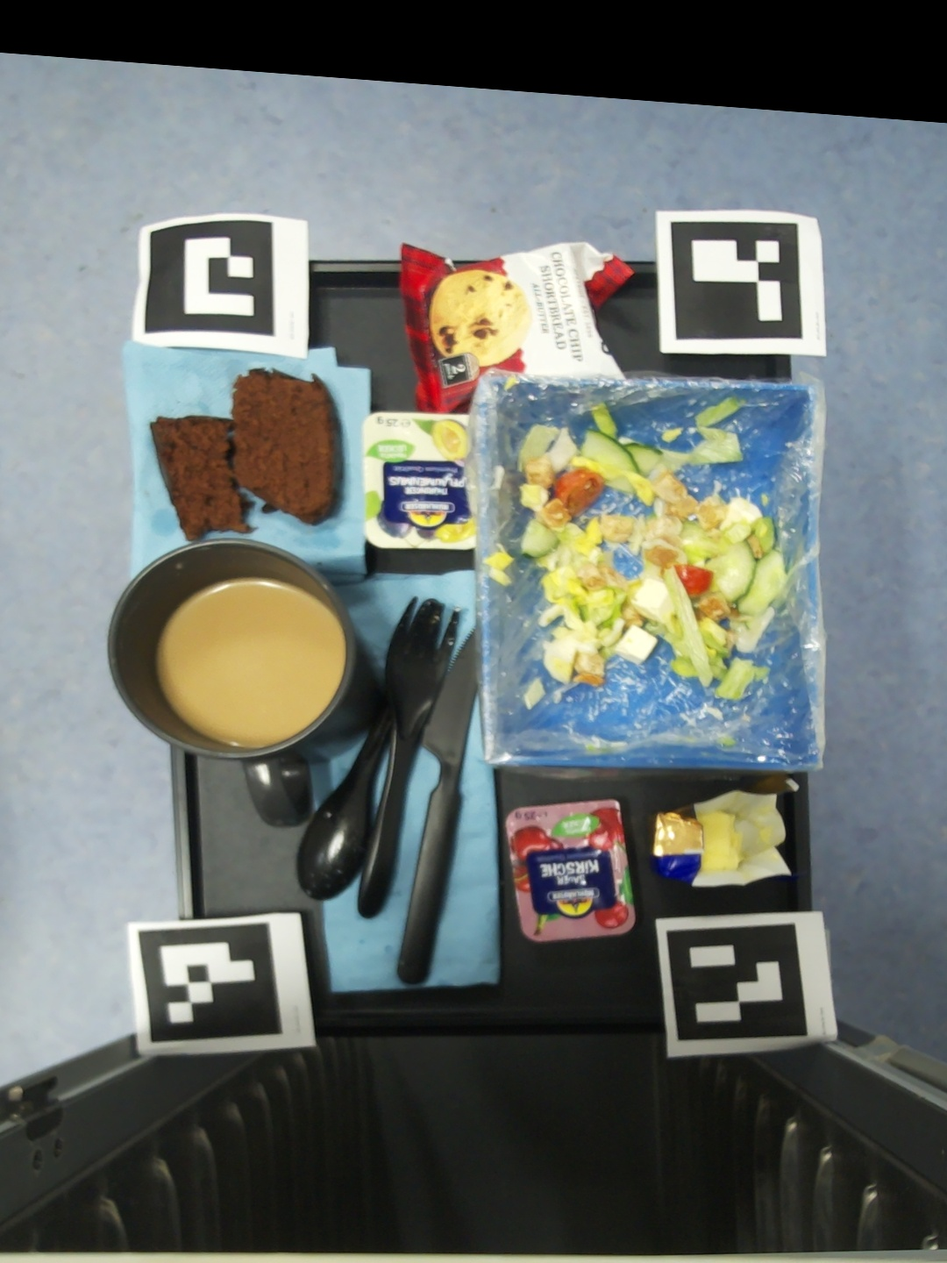brownie: (151, 367, 342, 540)
butter: (652, 771, 797, 888)
cherry_jam: (505, 798, 636, 941)
coffee_cup: (107, 539, 377, 827)
cookie: (400, 241, 634, 414)
plum_jam: (363, 413, 477, 551)
salad_main: (516, 396, 795, 700), (483, 553, 514, 588), (522, 676, 545, 709), (487, 465, 505, 490), (662, 426, 683, 442), (716, 734, 738, 748), (503, 378, 514, 394), (585, 744, 597, 752), (764, 495, 770, 506)
